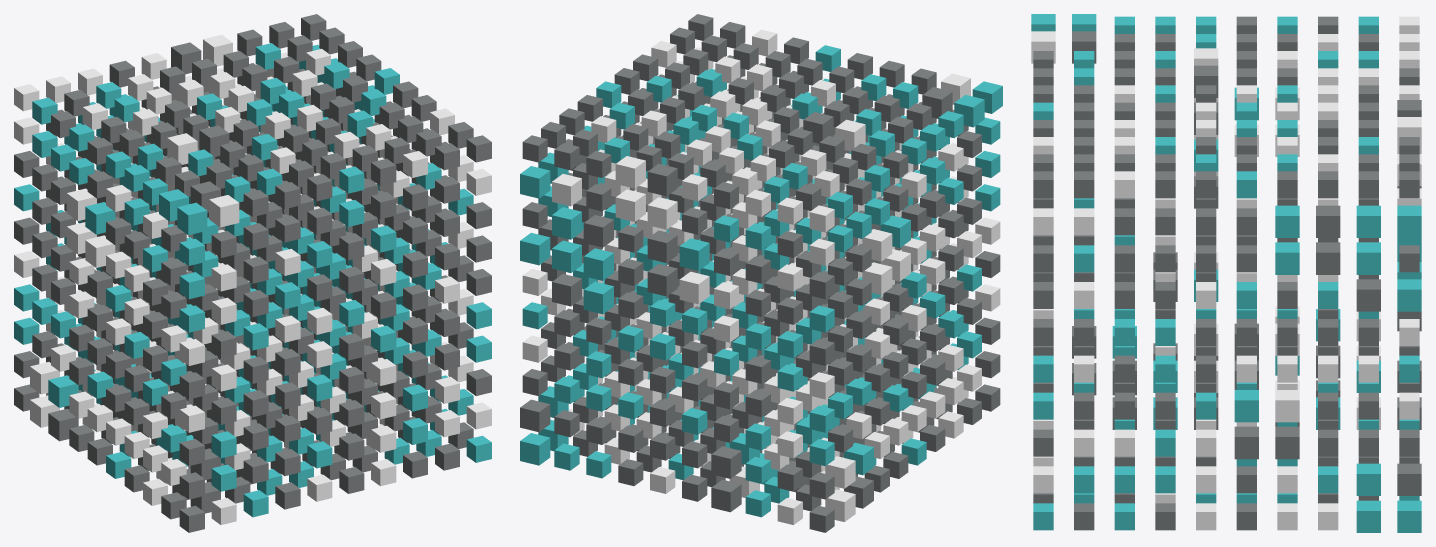
The picture shows the model from 3 angles, left to right: view 1: azimuth 30°, elevation 25°; view 2: azimuth 150°, elevation 25°; view 3: azimuth 270°, elevation 25°; orthographic projection. The views are drawn at different scales.
Parts seen in each view (by area): view 1: main_object.009, main_object.109, main_object.070, main_object.071, main_object.057, main_object.056, main_object.249, main_object.349, main_object.599, main_object.699, main_object.019, main_object.067 (+102 smaller); view 2: main_object.390, main_object.496, main_object.597, main_object.599, main_object.699, main_object.796, main_object.391, main_object.991, main_object.596, main_object.598, main_object.698, main_object.795 (+102 smaller); view 3: main_object.962, main_object.952, main_object.963, main_object.967, main_object.968, main_object.977, main_object.986, main_object.987, main_object.990, main_object.991, main_object.996, main_object.998 (+92 smaller).
Boxes of the visible parts, left/top/right/bottom form: main_object.009: left=177, top=202, right=207, bottom=235; main_object.109: left=209, top=195, right=239, bottom=227; main_object.070: left=48, top=408, right=78, bottom=441; main_object.071: left=48, top=375, right=78, bottom=407; main_object.057: left=85, top=202, right=115, bottom=234; main_object.056: left=85, top=235, right=115, bottom=267; main_object.249: left=167, top=133, right=197, bottom=164; main_object.349: left=199, top=125, right=229, bottom=157; main_object.599: left=171, top=42, right=201, bottom=74; main_object.699: left=203, top=34, right=232, bottom=66; main_object.019: left=159, top=189, right=188, bottom=221; main_object.067: left=66, top=188, right=96, bottom=220; main_object.390: left=711, top=479, right=741, bottom=512; main_object.496: left=679, top=271, right=709, bottom=304; main_object.597: left=647, top=230, right=677, bottom=262; main_object.599: left=647, top=163, right=677, bottom=196; main_object.699: left=615, top=156, right=645, bottom=188; main_object.796: left=583, top=248, right=613, bottom=280; main_object.391: left=711, top=446, right=741, bottom=478; main_object.991: left=520, top=399, right=550, bottom=431; main_object.596: left=647, top=264, right=677, bottom=296; main_object.598: left=647, top=197, right=677, bottom=229; main_object.698: left=615, top=189, right=645, bottom=221; main_object.795: left=583, top=281, right=613, bottom=314; main_object.962: left=1275, top=426, right=1299, bottom=459; main_object.952: left=1234, top=426, right=1258, bottom=459; main_object.963: left=1275, top=390, right=1299, bottom=422; main_object.967: left=1275, top=242, right=1299, bottom=274; main_object.968: left=1275, top=205, right=1299, bottom=237; main_object.977: left=1316, top=242, right=1340, bottom=274; main_object.986: left=1356, top=279, right=1380, bottom=311; main_object.987: left=1356, top=242, right=1380, bottom=274; main_object.990: left=1397, top=500, right=1421, bottom=532; main_object.991: left=1397, top=463, right=1421, bottom=495; main_object.996: left=1397, top=279, right=1421, bottom=311; main_object.998: left=1397, top=205, right=1421, bottom=237.
Bounding box in the file's own units: 19.2 × 19.2 × 19.2.
